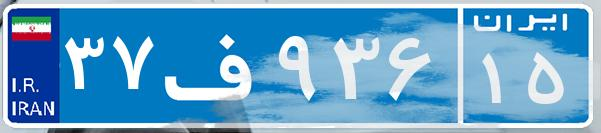1: (475, 38, 525, 113)
3: (330, 28, 385, 110), (57, 26, 110, 107)
5: (525, 38, 570, 115)
6: (385, 28, 445, 110)
7: (110, 28, 158, 105)
9: (273, 28, 330, 110)
ف: (158, 15, 273, 115)
